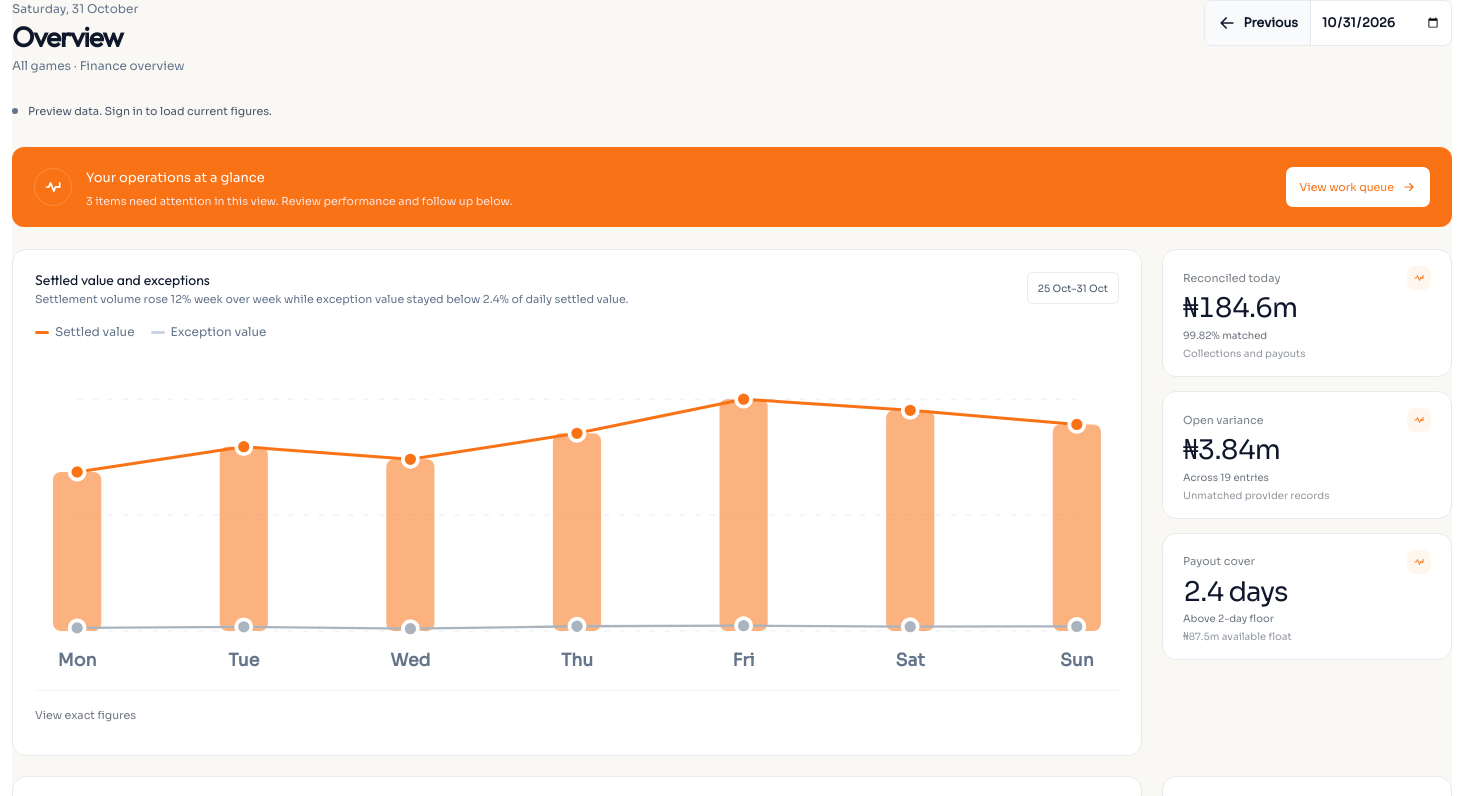
OperationsOverview › renders role-specific finance decisions and exact analytics values
The width and height of the screenshot is (1464, 796).
Expected: the heading "Overview" is shown, [12,19,123,54]
Expected: the text "All games · Finance overview" is shown, [12,57,184,75]
What coordinates should you click on to do the following:
click the heading "View exact figures"
I would click on:
 (86, 715)
Its box is [35,708,136,722].
(page scrolled)
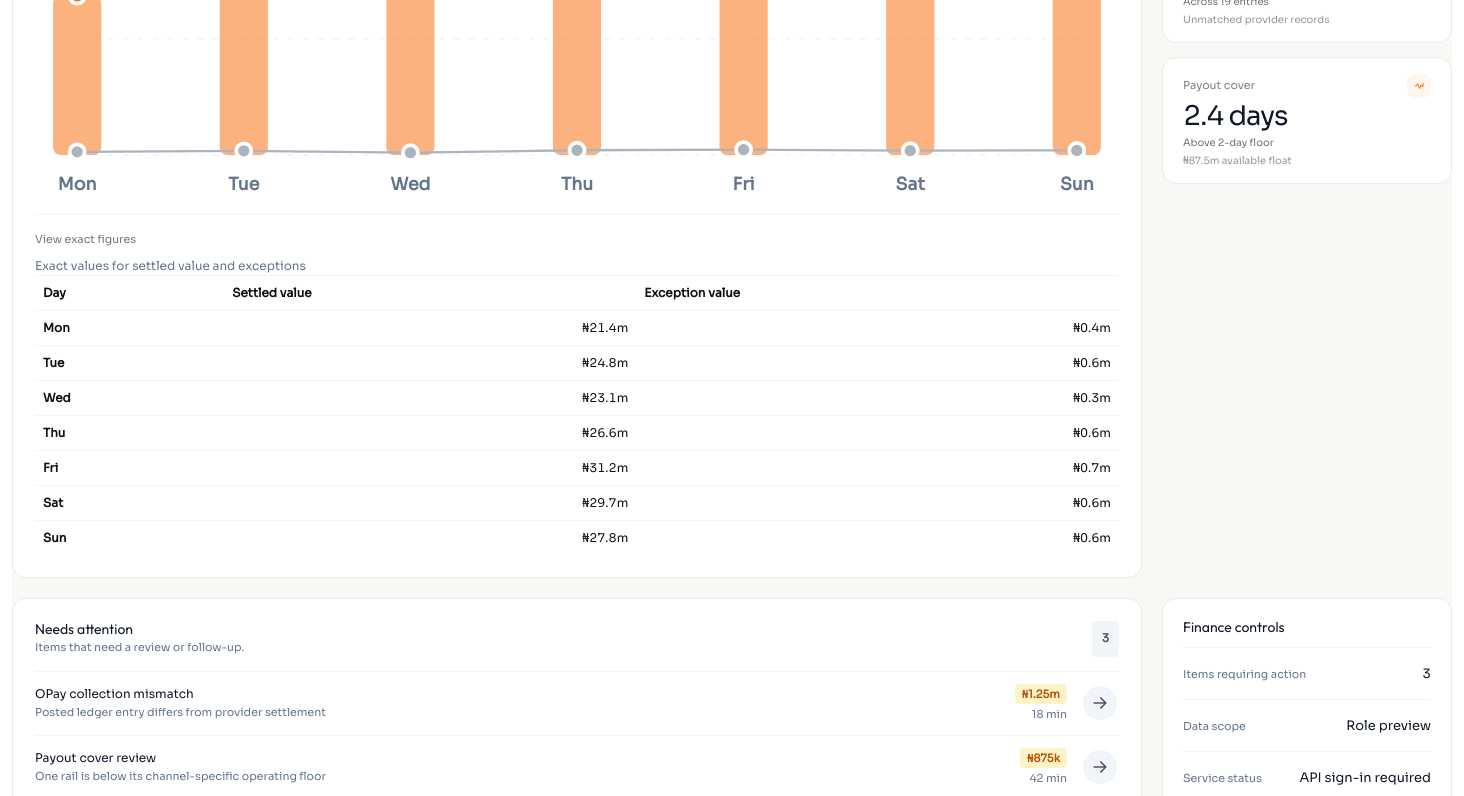
Result: the table "Exact values for settled value and exceptions" is shown at [35,257,1119,555]
